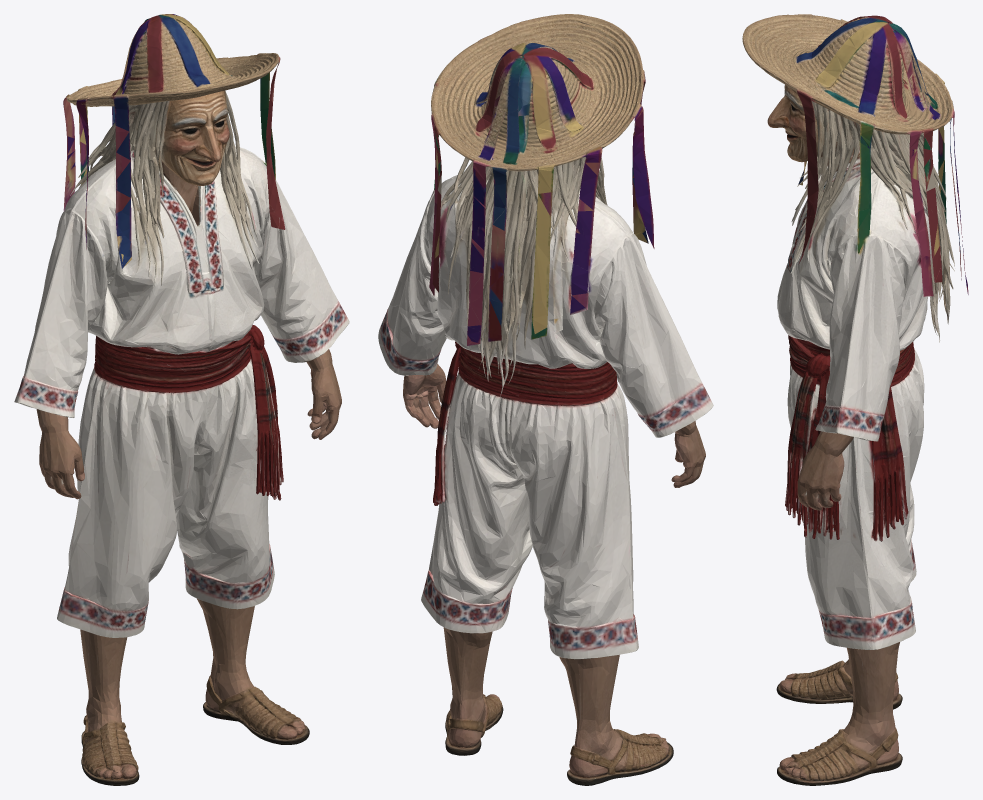
The model's file is Viejito.obj.
3 views of the same model, side by side, from view 1: azimuth 30°, elevation 25°; view 2: azimuth 150°, elevation 25°; view 3: azimuth 270°, elevation 25° (orthographic).
Visible parts, largest first — view 1: output_unwrapped; view 2: output_unwrapped; view 3: output_unwrapped.
Part boxes in pixels (x1,y1,x2,y2): output_unwrapped: [14, 14, 349, 785]; output_unwrapped: [378, 14, 713, 785]; output_unwrapped: [742, 14, 968, 785].
Size of the model in its own units: 0.8277 by 1.7 by 0.487.
Materials: 1 (1 with a texture image).
